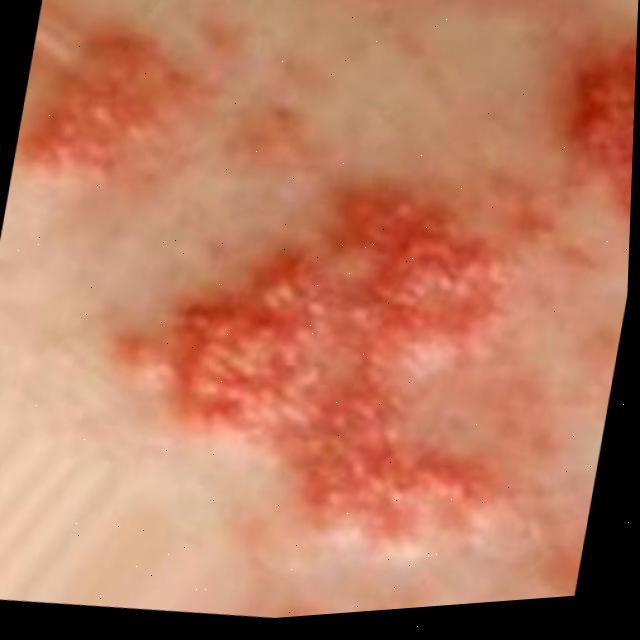Shingles: (92, 146, 562, 593), (18, 13, 228, 196), (547, 36, 637, 240)
